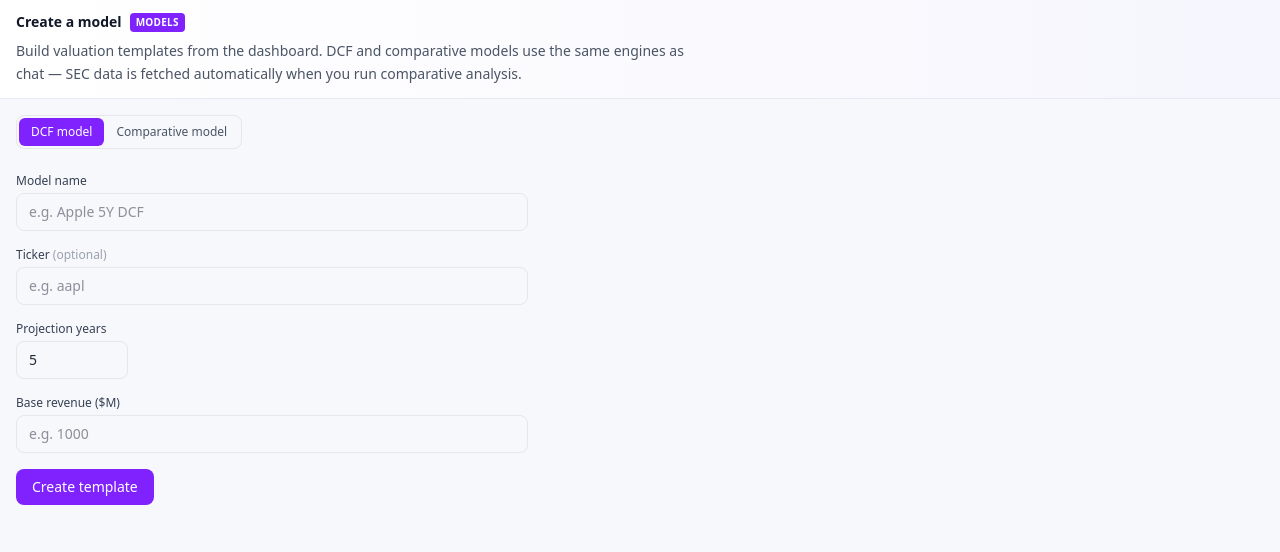
Scenario: ModelsHubPanel › shows fill message when comparative submit clicked without values
Click the button "Comparative model" at (172, 132), box [104,118,239,146]
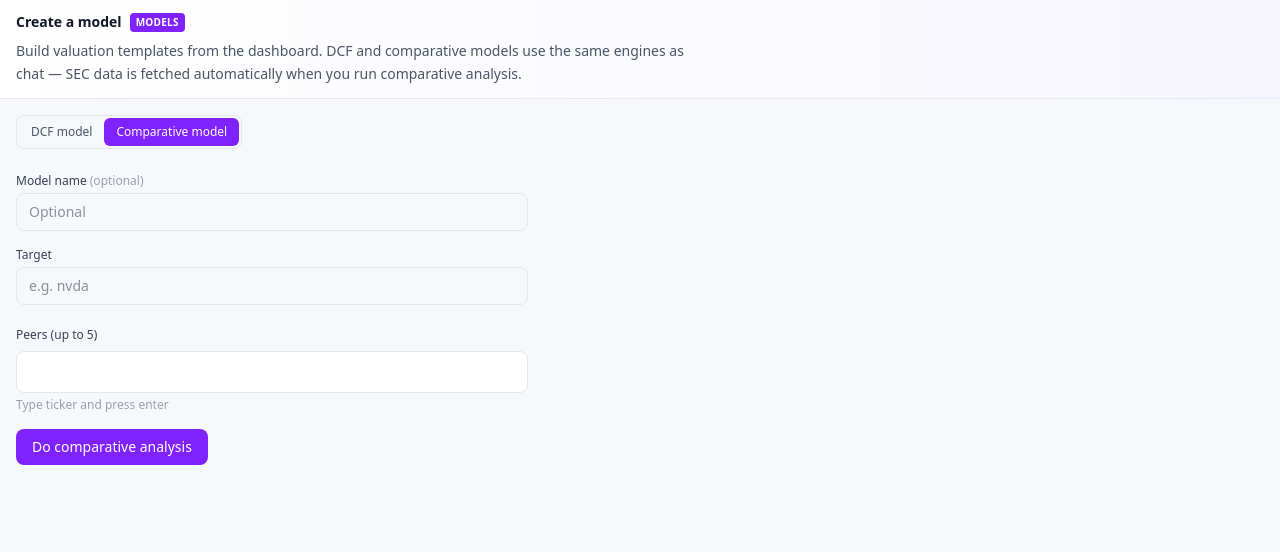
Click the button "Do comparative analysis" at (112, 446), box [16,428,208,464]
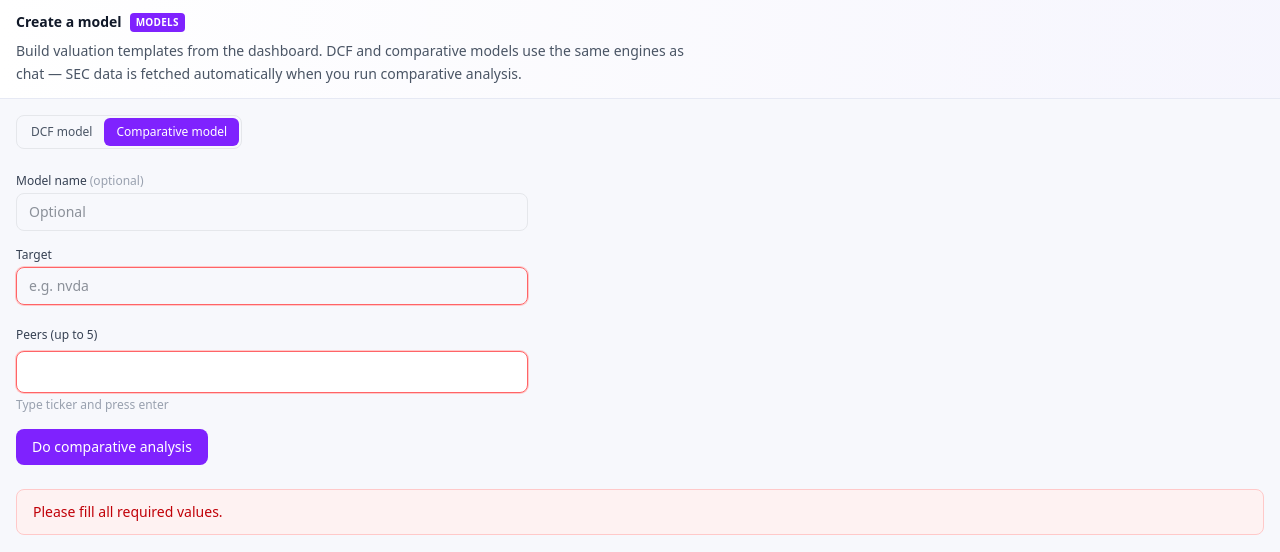
Result: the text "Please fill all required values." is shown at [16,488,1264,534]
